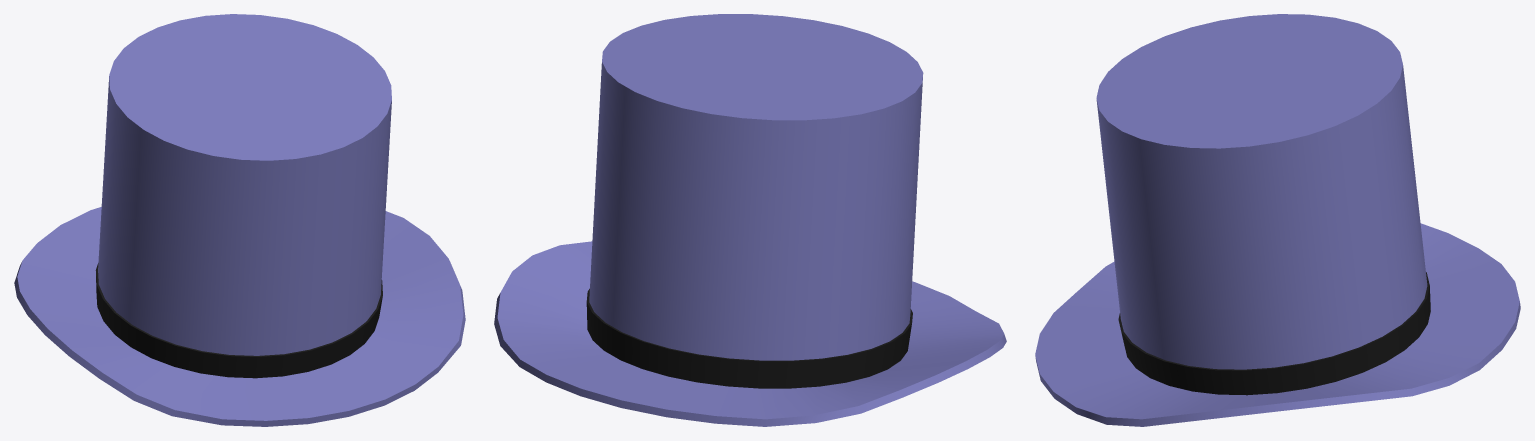
File: tophat_basic_player_color.glb
3 renders of one model, left to right at view 1: azimuth 30°, elevation 25°; view 2: azimuth 150°, elevation 25°; view 3: azimuth 270°, elevation 25°, orthographic. The views are drawn at different scales.
Parts seen in each view (by area): view 1: primary, secondary; view 2: primary, secondary; view 3: primary, secondary.
Part boxes in pixels (bbox=[...]): primary: bbox=[14, 14, 465, 426]; secondary: bbox=[95, 263, 382, 378]; primary: bbox=[494, 14, 1006, 426]; secondary: bbox=[586, 288, 912, 388]; primary: bbox=[1035, 14, 1520, 426]; secondary: bbox=[1118, 272, 1430, 395].
Size of the model in its own units: 0.6292 by 0.4242 by 0.6289.
